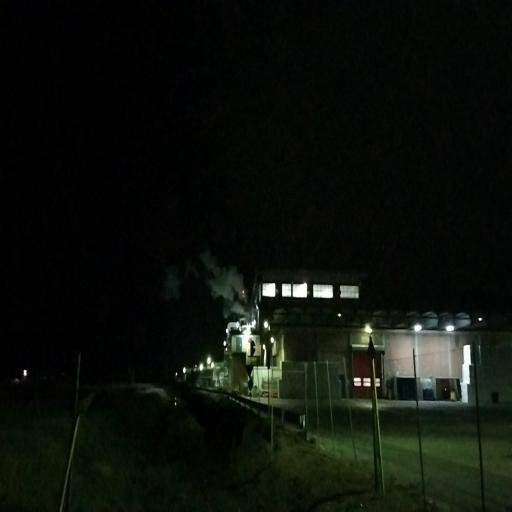leakage: (160, 239, 252, 321)
